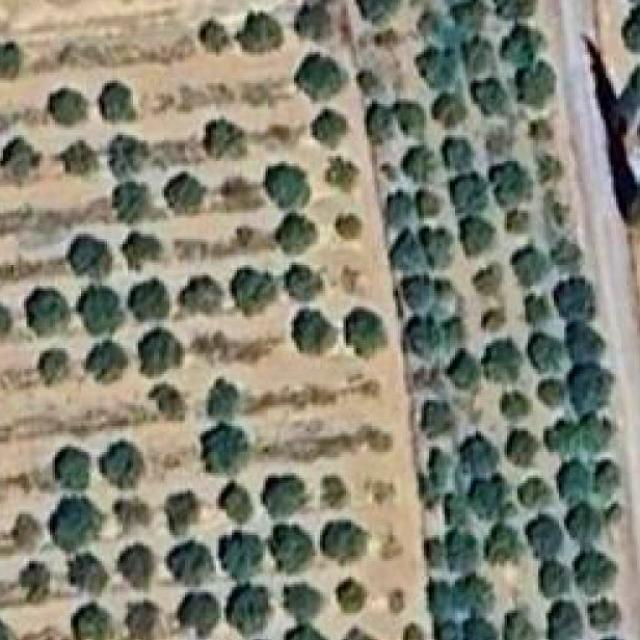Tree: (50, 497, 104, 548), (101, 442, 150, 491), (548, 273, 596, 323), (263, 164, 312, 212), (488, 160, 536, 208), (177, 272, 224, 321), (76, 286, 121, 336), (221, 532, 267, 579), (27, 288, 72, 336), (294, 55, 343, 99), (138, 325, 181, 375), (569, 367, 616, 412), (202, 427, 250, 471), (412, 46, 456, 94), (65, 234, 114, 277), (320, 523, 369, 566), (419, 225, 463, 272), (481, 341, 526, 386), (109, 182, 156, 225), (341, 312, 384, 359), (167, 543, 214, 586), (234, 265, 279, 309), (268, 525, 312, 570), (104, 135, 150, 178), (515, 66, 559, 110), (229, 587, 274, 630), (232, 5, 277, 48), (115, 546, 157, 592), (65, 600, 113, 640), (121, 597, 165, 640), (437, 528, 482, 570), (564, 322, 606, 366), (294, 3, 336, 46), (214, 483, 258, 524), (543, 599, 587, 640), (466, 473, 510, 514), (315, 154, 360, 194), (62, 556, 108, 595), (389, 275, 436, 313), (531, 329, 569, 376), (131, 284, 173, 326), (84, 341, 126, 383), (178, 590, 220, 632), (484, 518, 523, 563), (460, 36, 497, 83), (502, 31, 543, 73), (575, 551, 617, 592), (162, 491, 201, 535), (552, 460, 593, 501), (391, 94, 431, 136), (424, 278, 464, 319), (167, 171, 206, 213), (266, 478, 305, 519), (411, 0, 450, 41), (458, 216, 497, 256), (278, 216, 319, 254), (292, 312, 330, 353), (403, 145, 440, 187), (460, 434, 499, 473), (445, 348, 483, 388), (206, 119, 243, 160), (567, 507, 604, 548), (34, 350, 76, 386), (123, 234, 166, 269), (458, 577, 496, 616), (526, 517, 564, 556), (204, 382, 241, 422), (533, 152, 570, 192), (1, 140, 37, 181), (405, 315, 441, 356), (390, 229, 425, 271), (448, 171, 486, 209), (48, 88, 87, 125), (287, 263, 326, 300), (310, 109, 349, 146), (97, 83, 133, 123), (53, 447, 93, 483), (5, 512, 41, 552), (408, 184, 449, 219), (590, 462, 625, 503), (546, 419, 582, 458), (278, 582, 318, 617), (151, 382, 185, 423), (333, 577, 369, 615), (545, 199, 581, 237), (582, 413, 617, 452), (110, 497, 147, 533), (318, 473, 354, 510), (548, 237, 584, 274), (437, 135, 475, 170), (332, 211, 366, 250), (453, 0, 495, 31), (424, 577, 455, 619), (62, 140, 98, 176), (510, 429, 546, 465), (469, 80, 506, 115), (512, 247, 547, 284), (422, 400, 457, 437), (427, 94, 467, 125), (229, 222, 269, 253), (192, 19, 227, 54), (533, 381, 567, 417), (16, 564, 48, 602), (473, 262, 508, 296), (500, 613, 544, 640), (499, 384, 532, 420), (536, 561, 574, 591), (520, 473, 552, 508), (354, 0, 399, 24), (388, 192, 420, 225), (583, 596, 618, 626), (367, 102, 394, 139), (500, 0, 541, 24), (458, 618, 502, 640), (0, 36, 23, 78), (525, 118, 556, 148), (418, 537, 444, 572), (500, 211, 526, 239), (386, 587, 415, 612), (479, 306, 508, 331), (398, 616, 427, 640), (432, 618, 463, 640), (354, 68, 380, 92), (286, 628, 331, 640), (0, 304, 16, 336), (343, 628, 384, 640), (0, 615, 19, 640), (585, 634, 635, 640)
